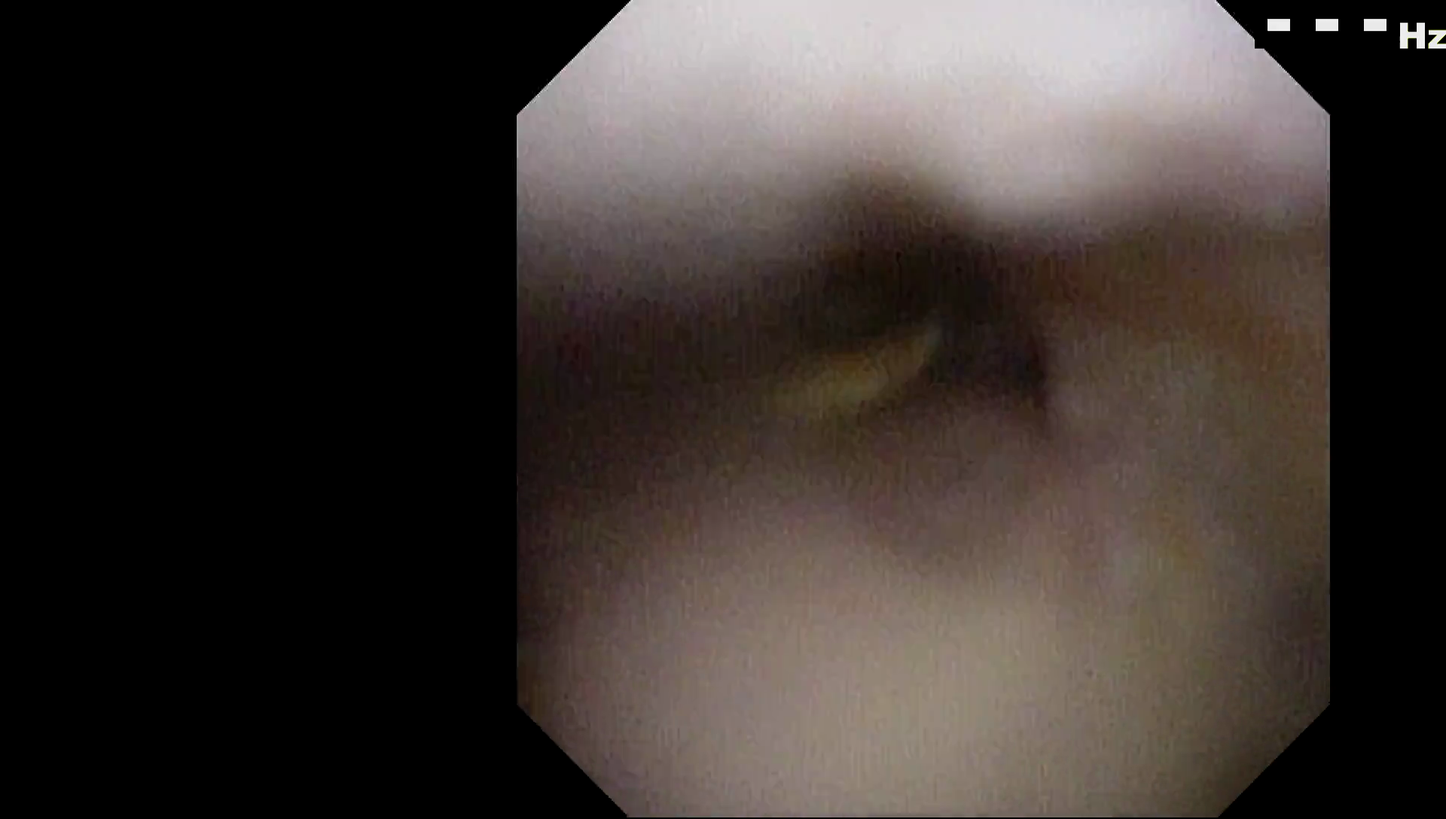close_wall: (521, 0, 1321, 321)
next: (769, 220, 1107, 419)
